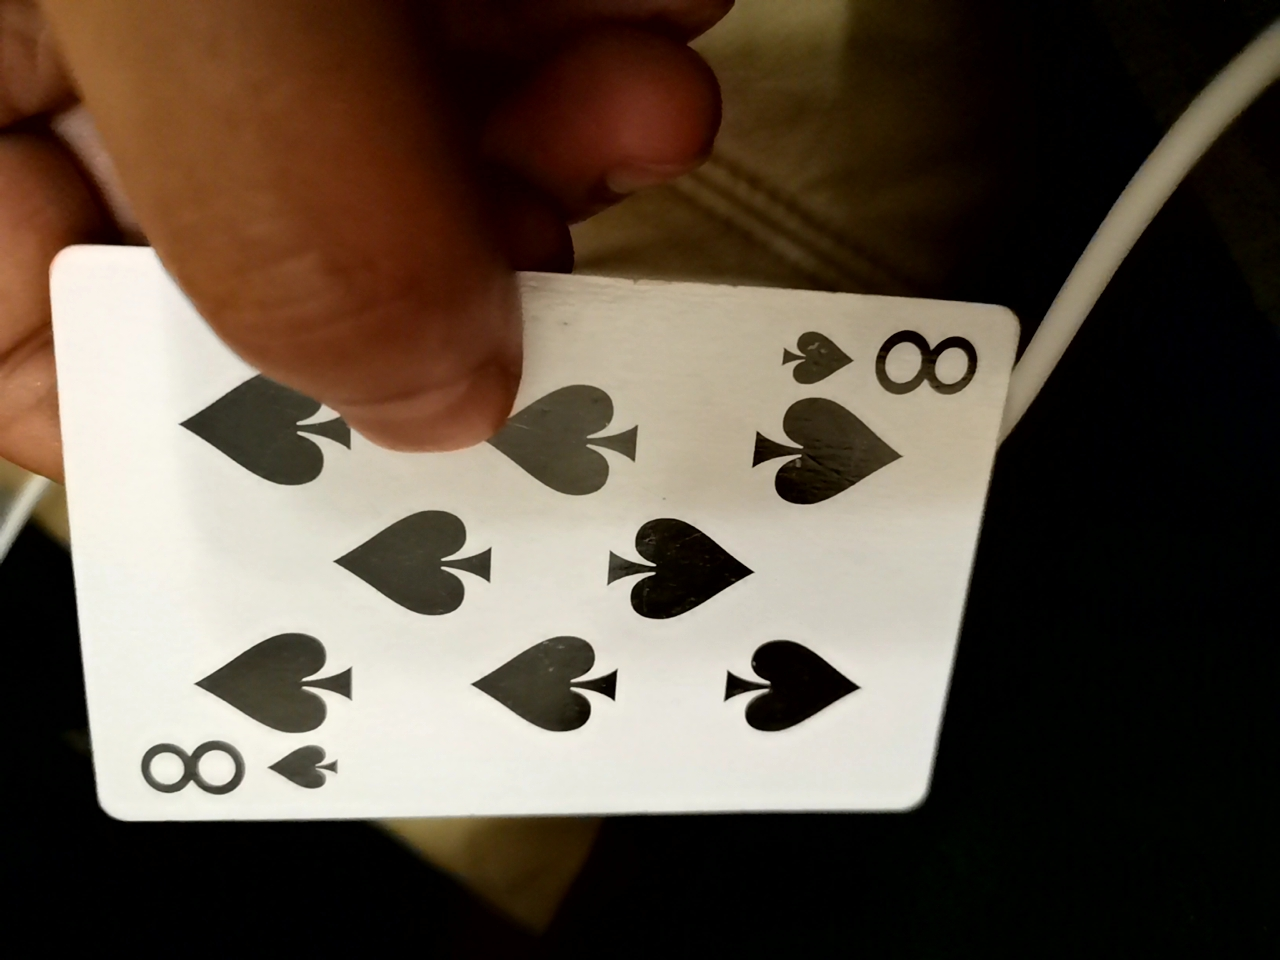ht 8: (20, 265, 1029, 829)
